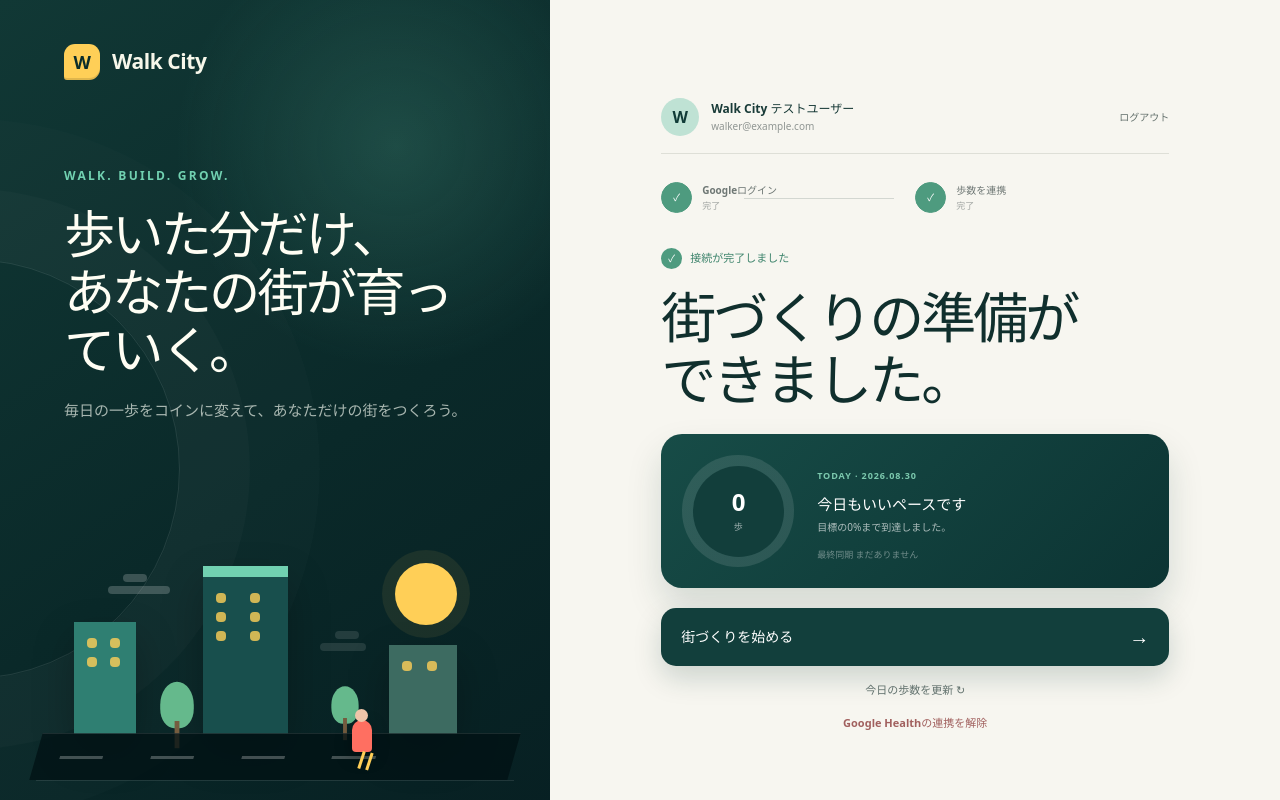
AppRoutes › continues to town from the connected completion state
Click the button "街づくりを始める →" at coordinates (737, 637), box [661,608,1169,666]
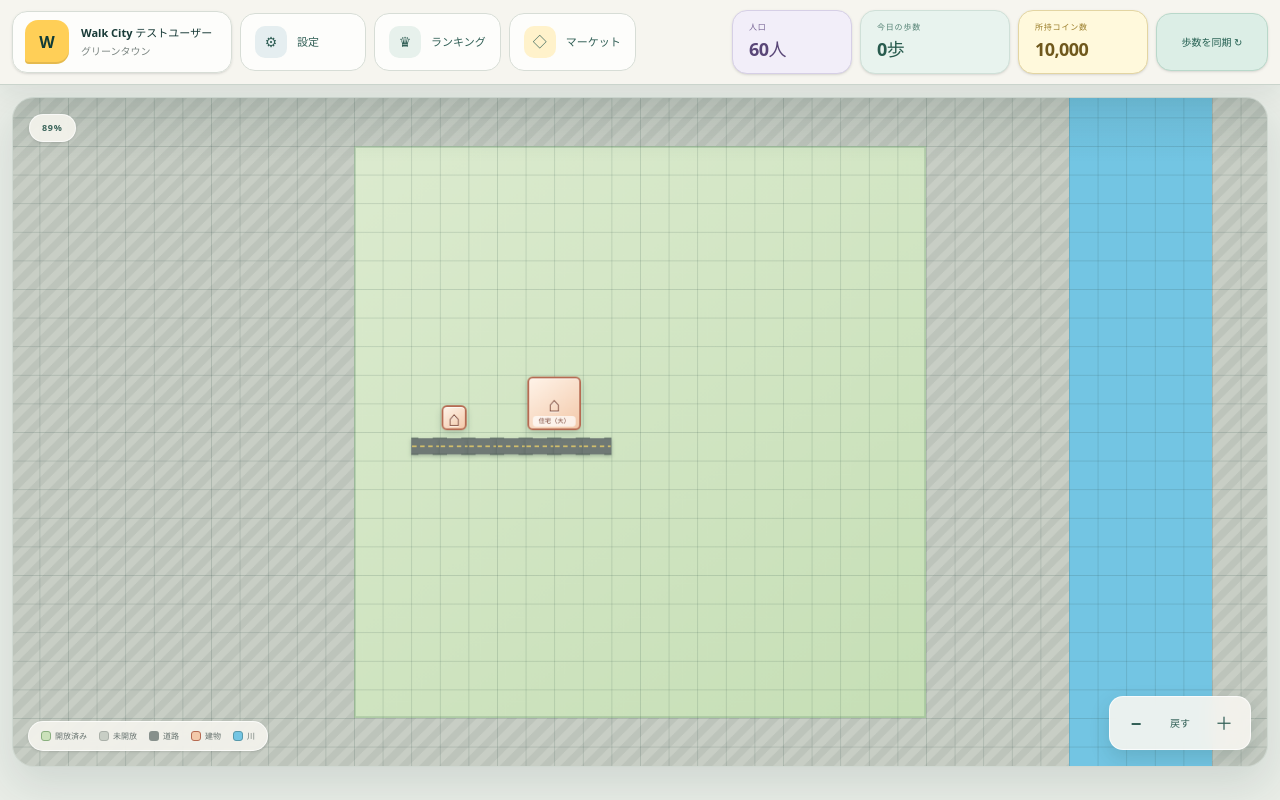
Expected: the heading "グリーンタウン" is shown, [81,44,150,58]
